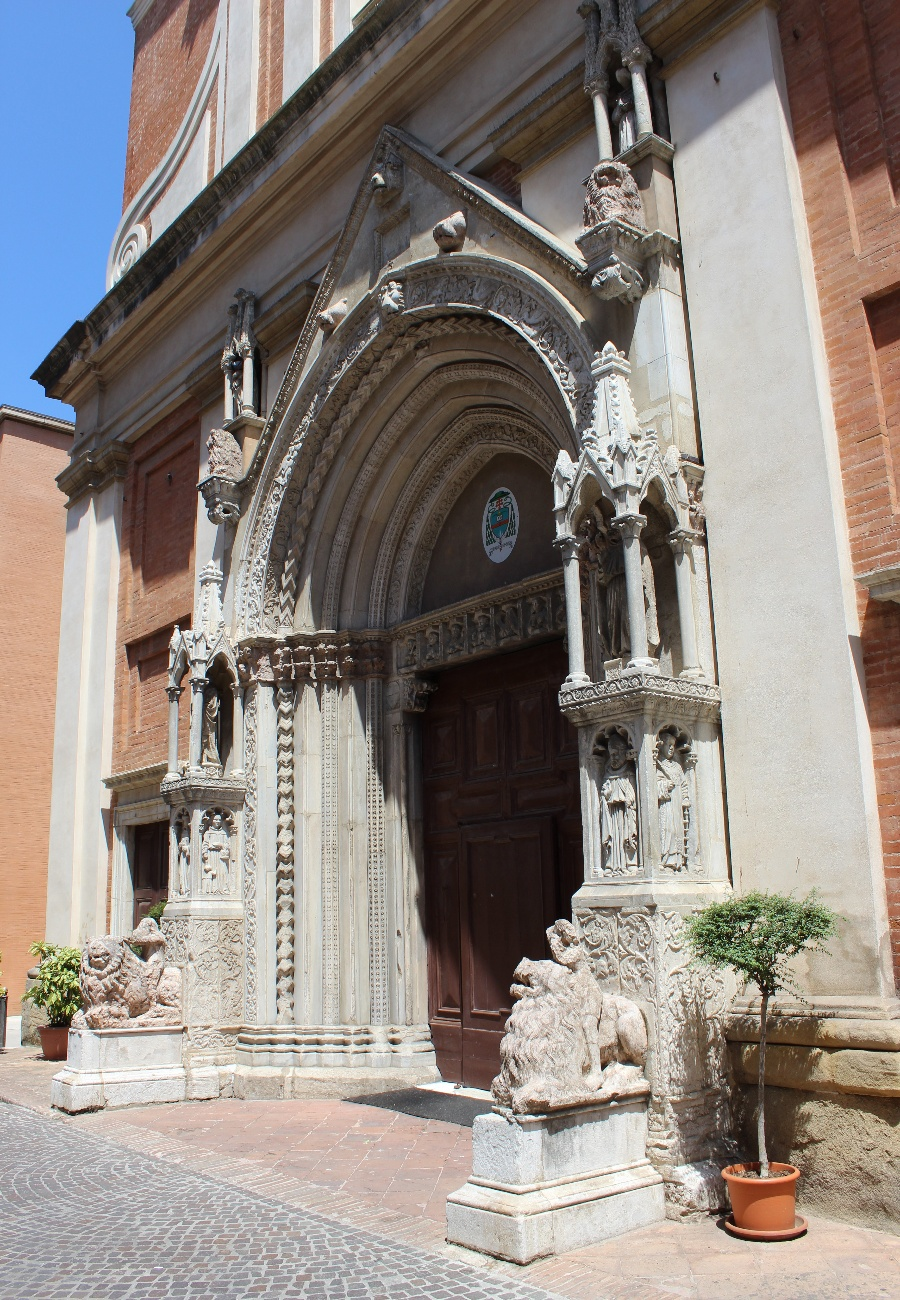Chiesa San Agostino: (26, 1, 900, 1260)
